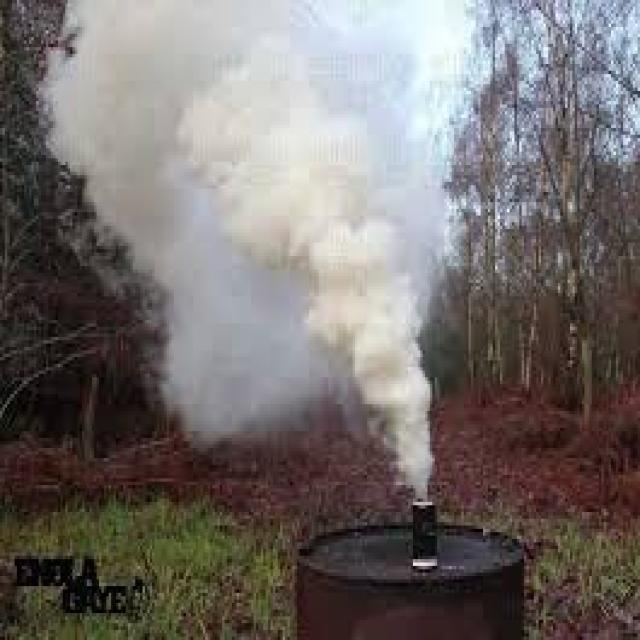Smoke: (36, 0, 449, 499)
